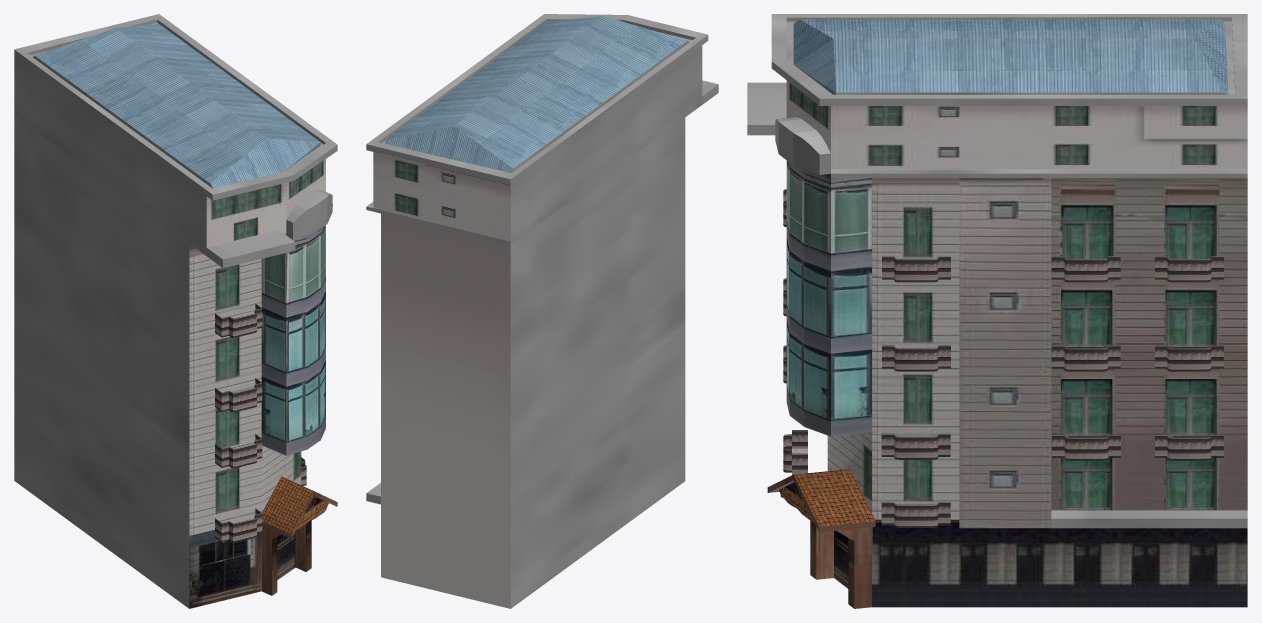
3 renders of one model, left to right at view 1: azimuth 30°, elevation 25°; view 2: azimuth 150°, elevation 25°; view 3: azimuth 270°, elevation 25°, orthographic. The views are drawn at different scales.
Visible parts, largest first — view 1: HN1055___Buffalo_Hostel; view 2: HN1055___Buffalo_Hostel; view 3: HN1055___Buffalo_Hostel.
Part boxes in pixels (x1=…): HN1055___Buffalo_Hostel: x1=14, y1=14, x2=337, y2=608; HN1055___Buffalo_Hostel: x1=366, y1=14, x2=718, y2=608; HN1055___Buffalo_Hostel: x1=747, y1=14, x2=1247, y2=608.
Bounding box in the file's own units: 7.27 × 21.53 × 18.13.
Materials: 1 (1 with a texture image).
